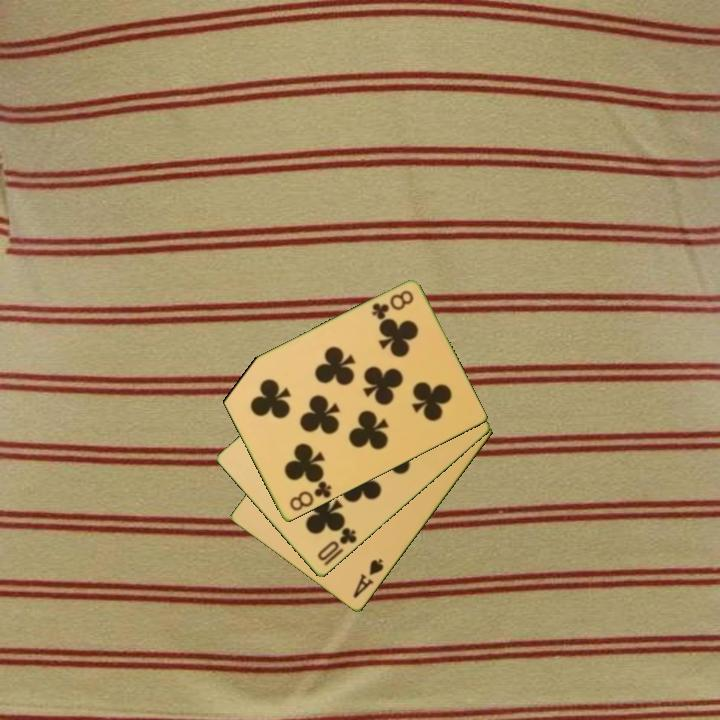10c: (314, 524, 360, 564)
8c: (286, 475, 334, 514), (368, 287, 416, 323)
As: (349, 555, 387, 602)
